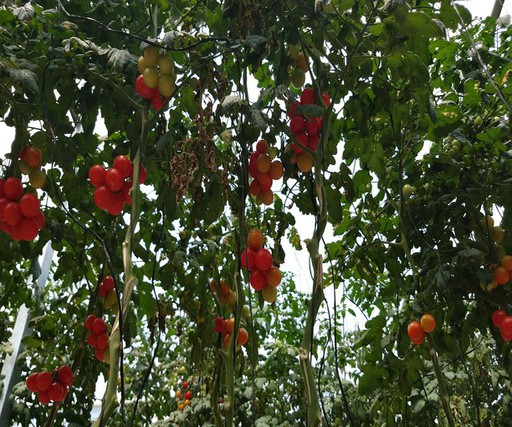green tomato bunch: (138, 43, 179, 97), (490, 307, 512, 340), (492, 253, 512, 286)
mixed tomato bunch: (94, 272, 130, 310), (175, 378, 194, 413)
red tomato bunch: (287, 88, 335, 166), (90, 156, 146, 216), (1, 174, 48, 242), (240, 230, 283, 299), (247, 139, 286, 204), (31, 365, 75, 406), (83, 314, 117, 361), (213, 317, 250, 350), (409, 314, 436, 347)
